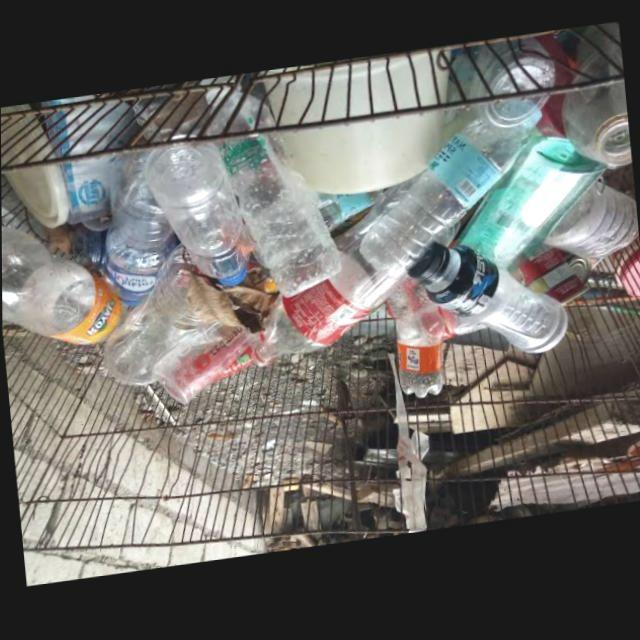plastic_bottle: (358, 104, 542, 279), (250, 214, 407, 369), (450, 141, 608, 273), (221, 138, 341, 300), (407, 247, 567, 359), (145, 143, 254, 288), (1, 223, 121, 345), (102, 158, 179, 307), (541, 183, 638, 271), (388, 280, 444, 402)
plastic_container: (264, 55, 446, 129), (282, 116, 439, 198)
